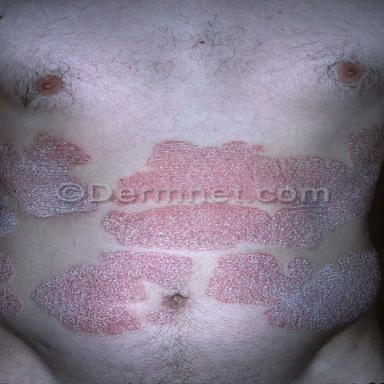Psoriasis: (102, 123, 383, 249), (207, 250, 380, 330), (31, 251, 192, 333), (0, 133, 98, 217), (0, 194, 18, 237), (0, 288, 23, 317), (148, 305, 178, 324), (0, 253, 15, 283)
